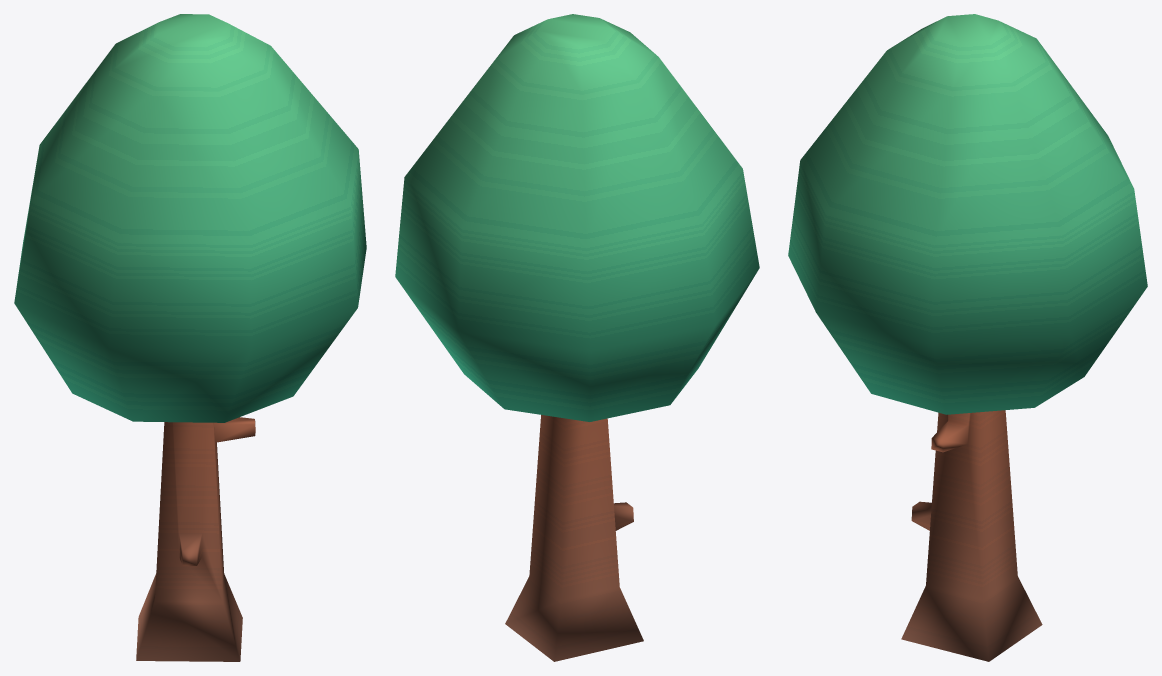
File: tree_spherical_a.glb
The picture shows the model from 3 angles, left to right: view 1: azimuth 30°, elevation 25°; view 2: azimuth 150°, elevation 25°; view 3: azimuth 270°, elevation 25°; orthographic projection.
Parts seen in each view (by area): view 1: tree_spherical__Mesh_004; view 2: tree_spherical__Mesh_004; view 3: tree_spherical__Mesh_004.
Part boxes in pixels (x1,y1,x2,y2): tree_spherical__Mesh_004: (14,14,366,661); tree_spherical__Mesh_004: (395,14,759,661); tree_spherical__Mesh_004: (788,14,1147,661).
Size of the model in its own units: 1.02 by 1.89 by 1.02.
1 material, 1 textured.
